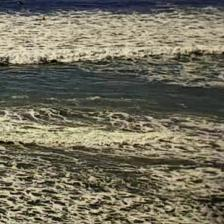surfer: (38, 16, 46, 21), (17, 1, 24, 5)
